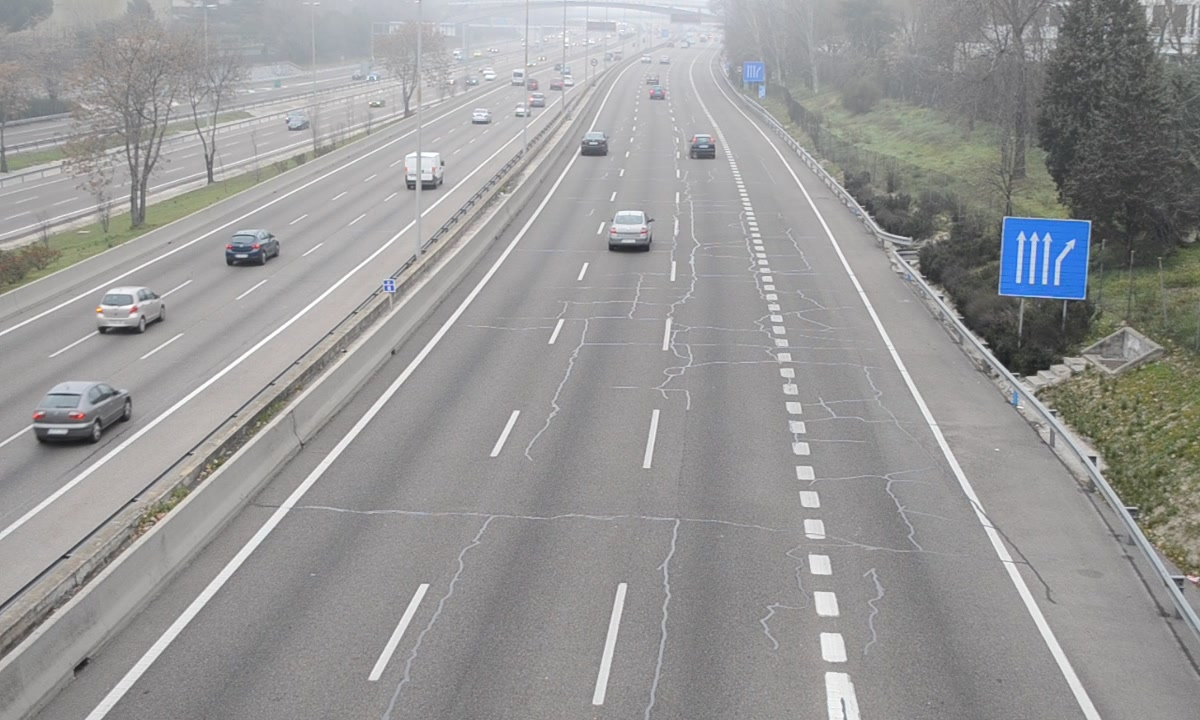car: (610, 210, 651, 251), (581, 132, 608, 158), (689, 134, 715, 158)
